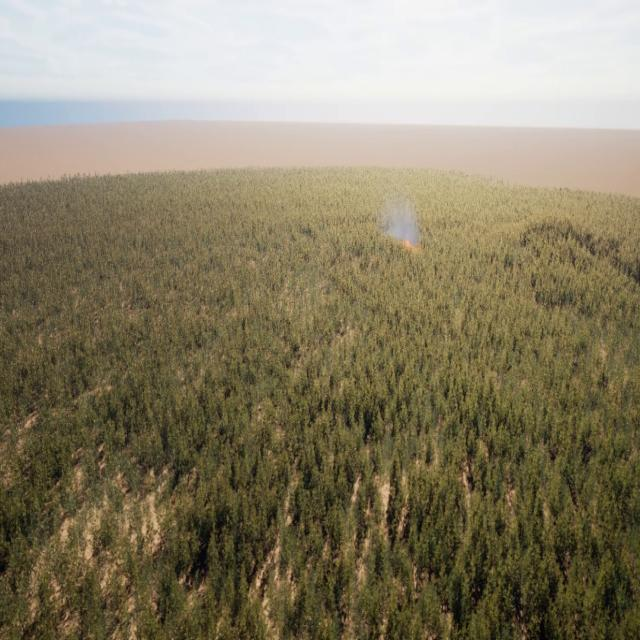fire: (406, 237, 416, 248)
smoke: (388, 196, 422, 250)
